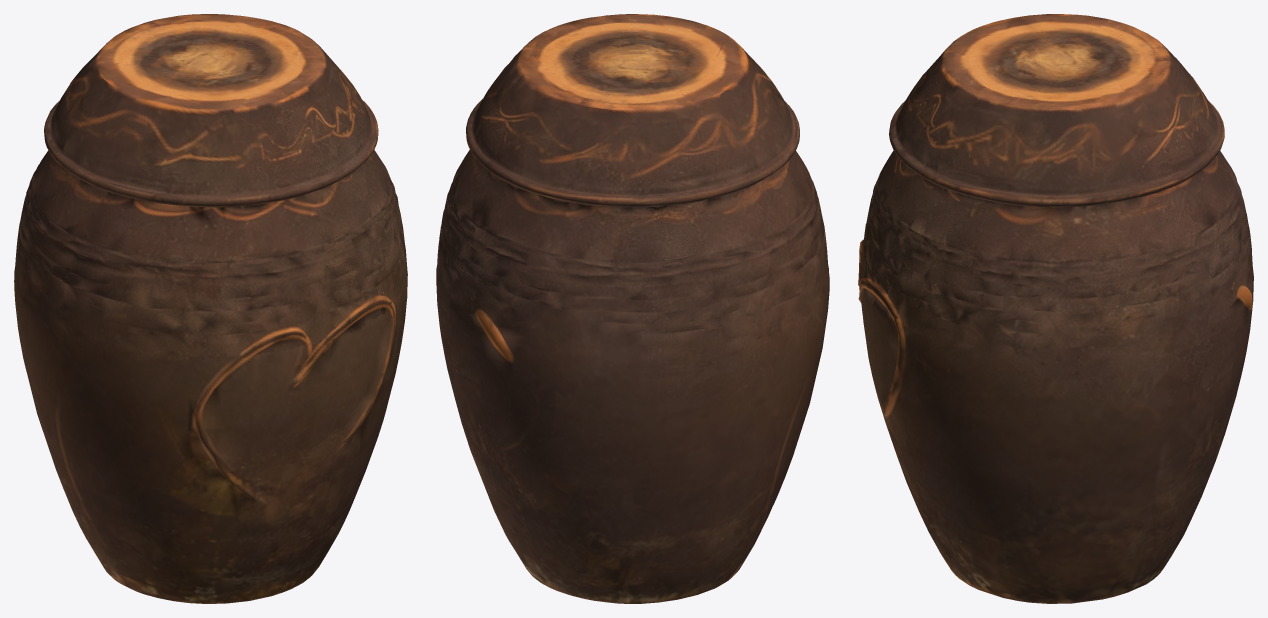
Rendered from Closed_jar.glb.
3 views of the same model, side by side, from view 1: azimuth 30°, elevation 25°; view 2: azimuth 150°, elevation 25°; view 3: azimuth 270°, elevation 25° (orthographic).
Bounding box in the file's own units: 1.37 × 1.9 × 1.38.
Materials: 1 (1 with a texture image).
